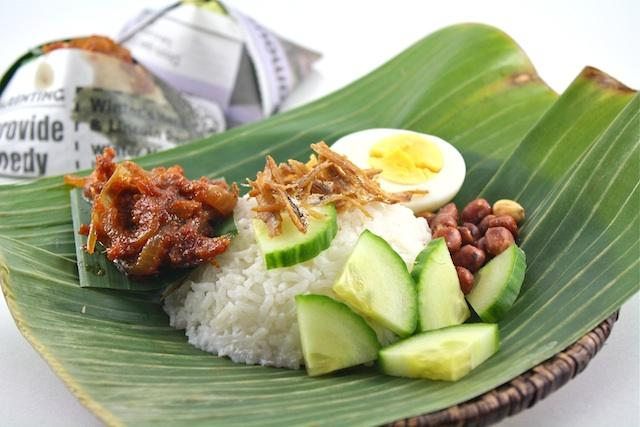Anchovies: (246, 141, 429, 238)
Boiled-Egg: (330, 129, 464, 213)
Cucumber: (295, 231, 527, 382), (253, 208, 333, 268)
Peanuts: (426, 200, 525, 295)
Rice: (161, 198, 432, 369)
Sambal: (63, 149, 238, 273)
